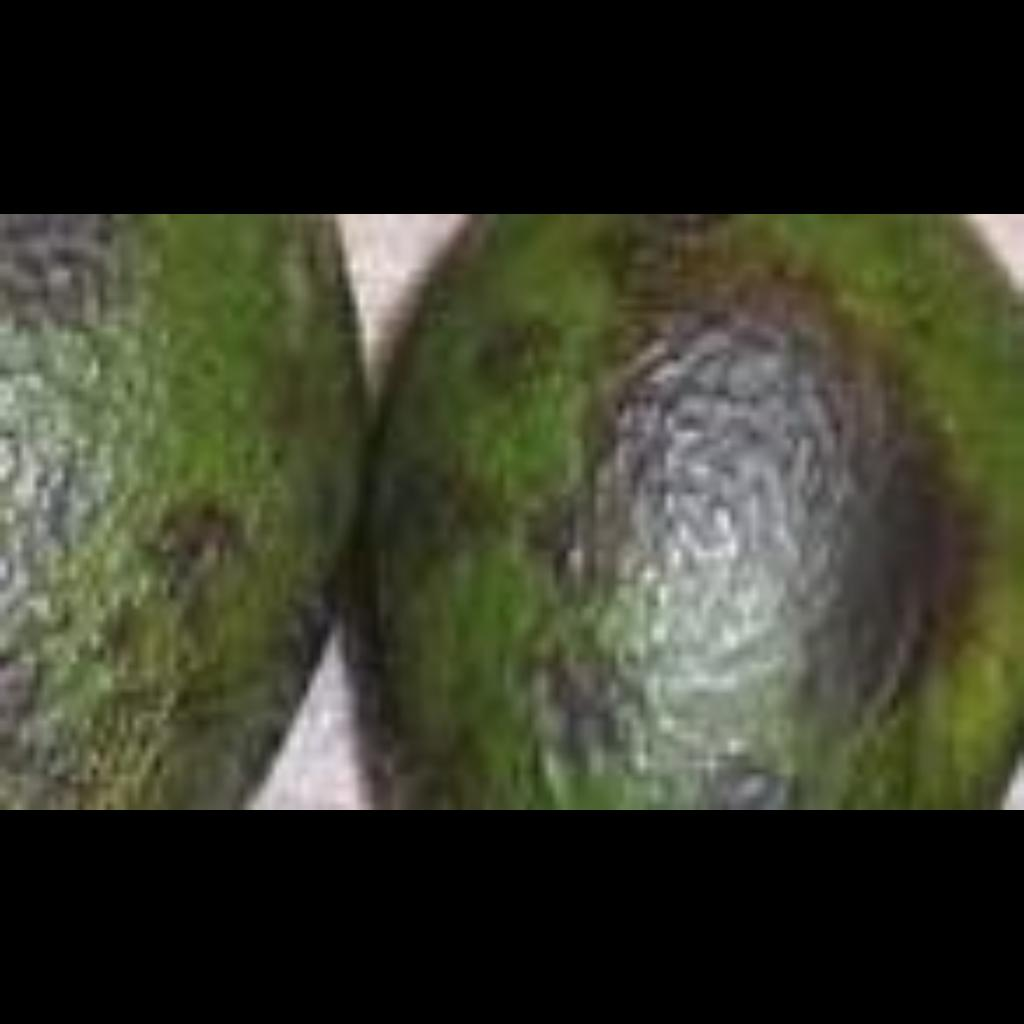Anthracnose: (449, 232, 989, 772), (0, 438, 288, 796)
